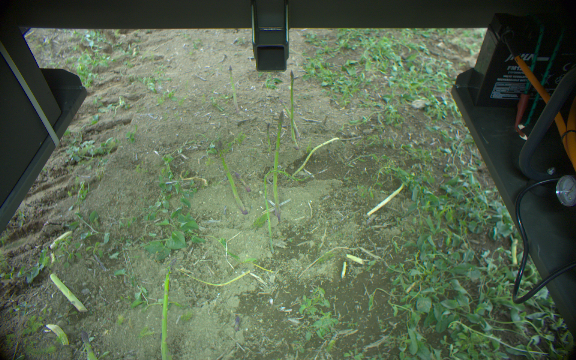aspa: (216, 139, 246, 215), (159, 258, 180, 360), (273, 110, 285, 221), (286, 70, 299, 150), (225, 63, 241, 116), (233, 167, 249, 195), (263, 122, 274, 151)
